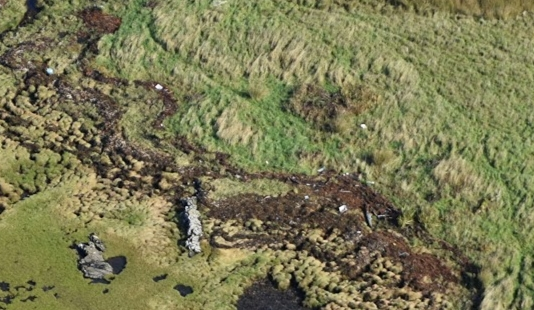white_in_green: (29, 49, 76, 92), (134, 67, 180, 110), (343, 104, 389, 147), (321, 187, 367, 230)
